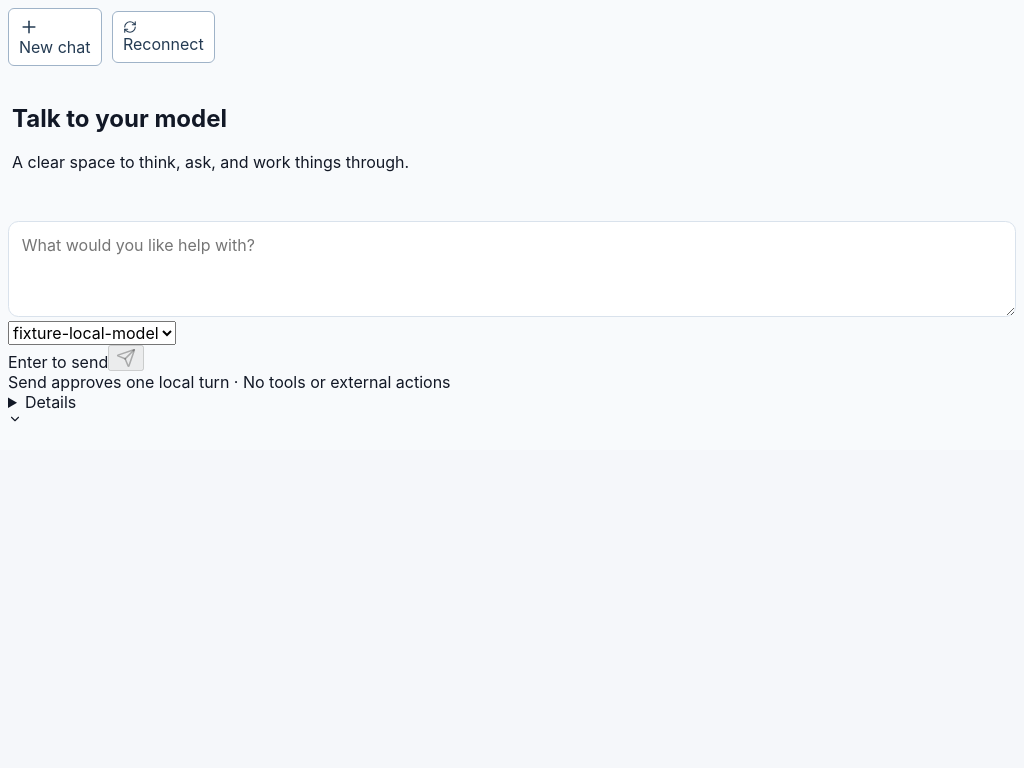
Test case: main local conversation › keeps safety details reachable without crowding the initial conversation
Expected: the heading "Talk to your model" is shown, [12,104,227,132]
Expected: the heading "Diagnostic proof" is not shown
Click the heading "Details".
click(42, 409)  # box [8,392,76,426]
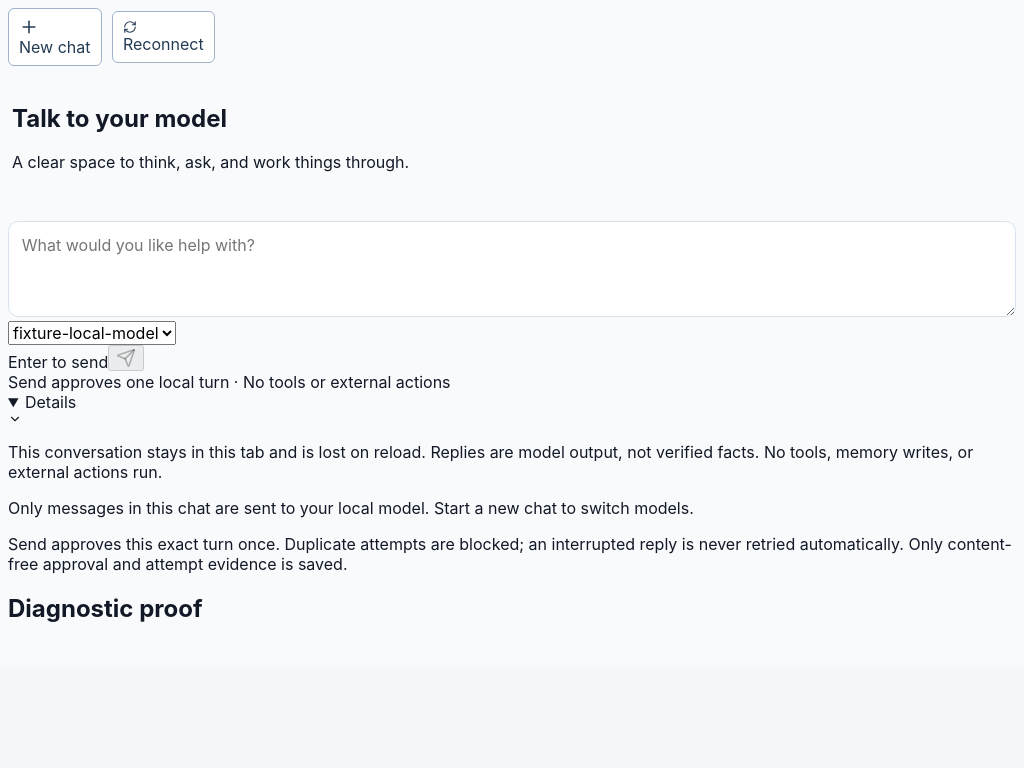
Expected: the heading "Diagnostic proof" is shown, [8,594,202,623]
Expected: the text "lost on reload" is shown, [8,442,973,482]
Click the heading "Details".
click(42, 409)  # box [8,392,76,426]
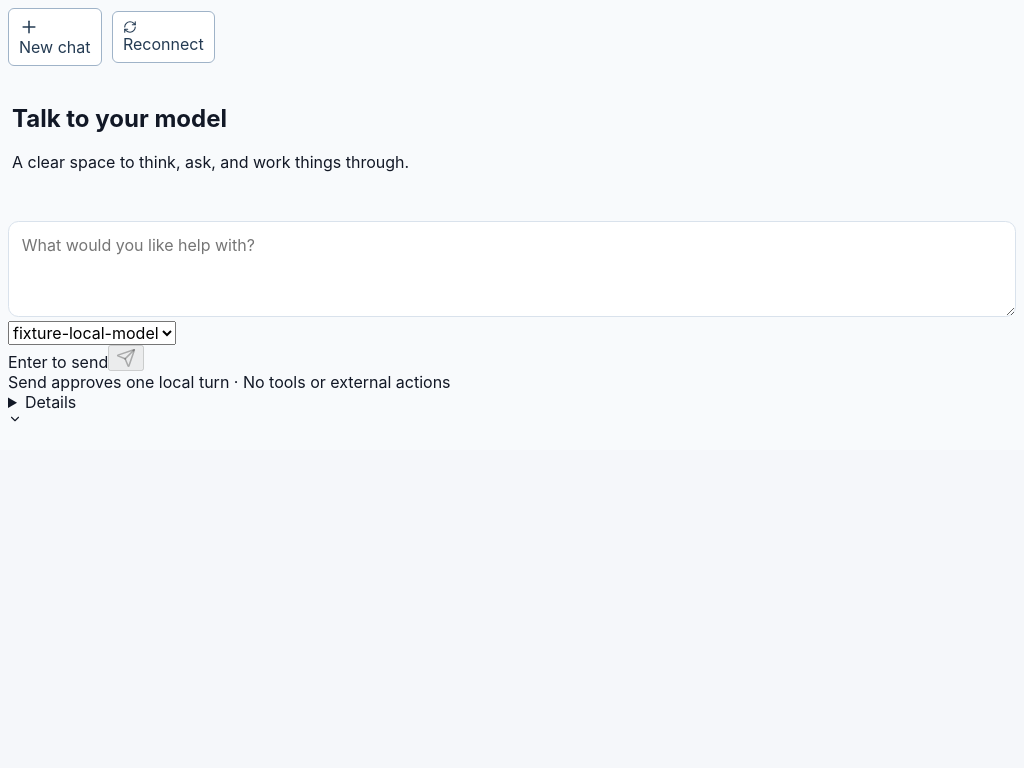
Expected: the heading "Diagnostic proof" is gone
